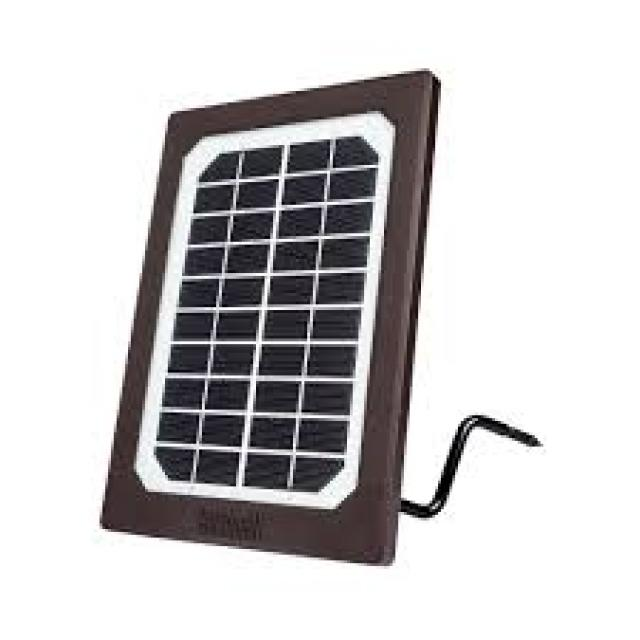no faulty: (139, 119, 387, 495)
